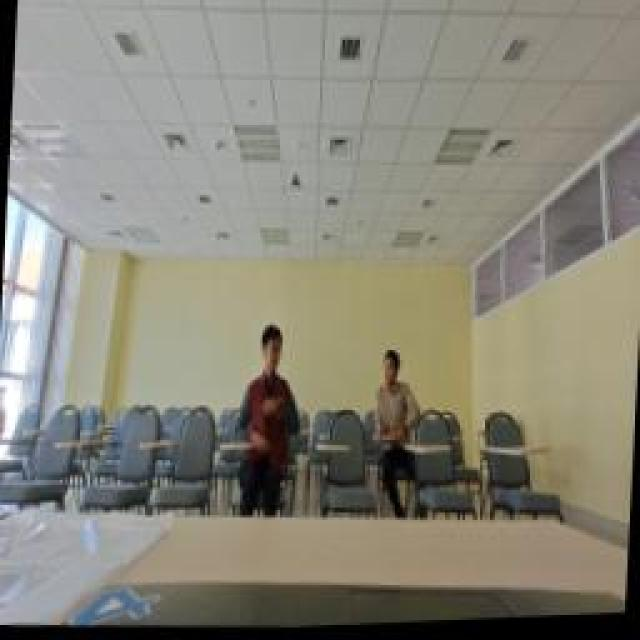study: (233, 315, 305, 450), (373, 348, 425, 442)
